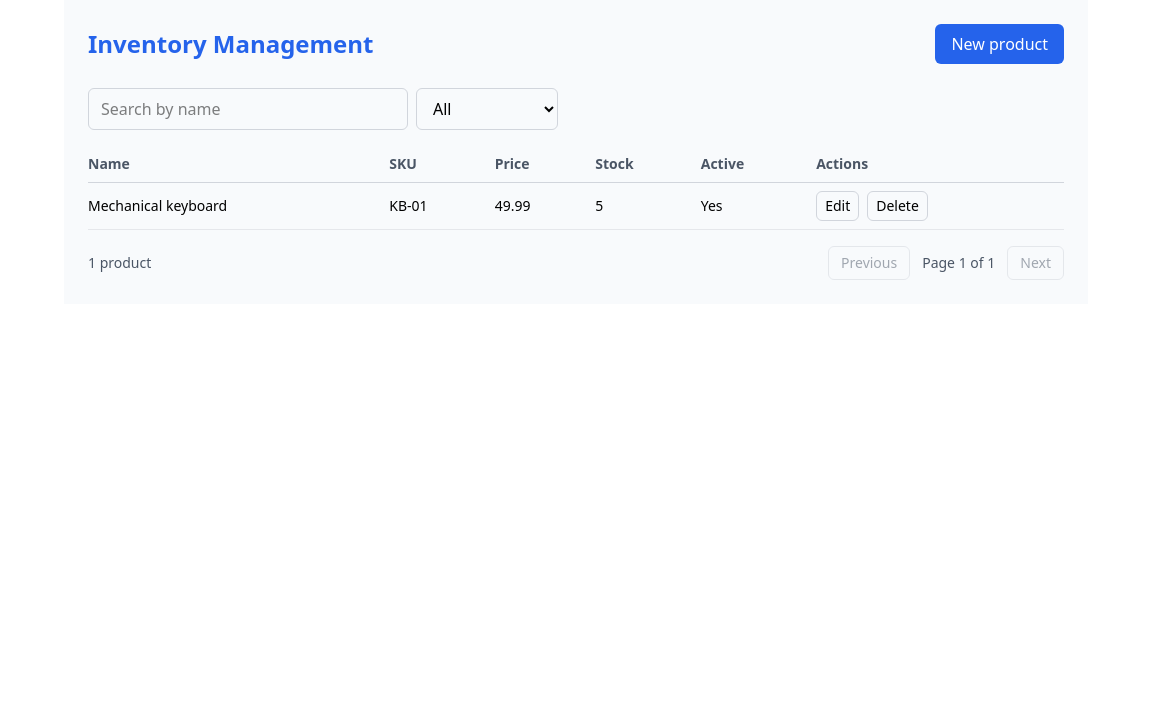
Test: delete flow › asks for confirmation naming the product; cancel sends nothing
Check: the text "Mechanical keyboard" is shown, box [88,182,389,230]
Click the button with aria-label "Delete Mechanical keyboard": (898,206) [867,191,928,221]
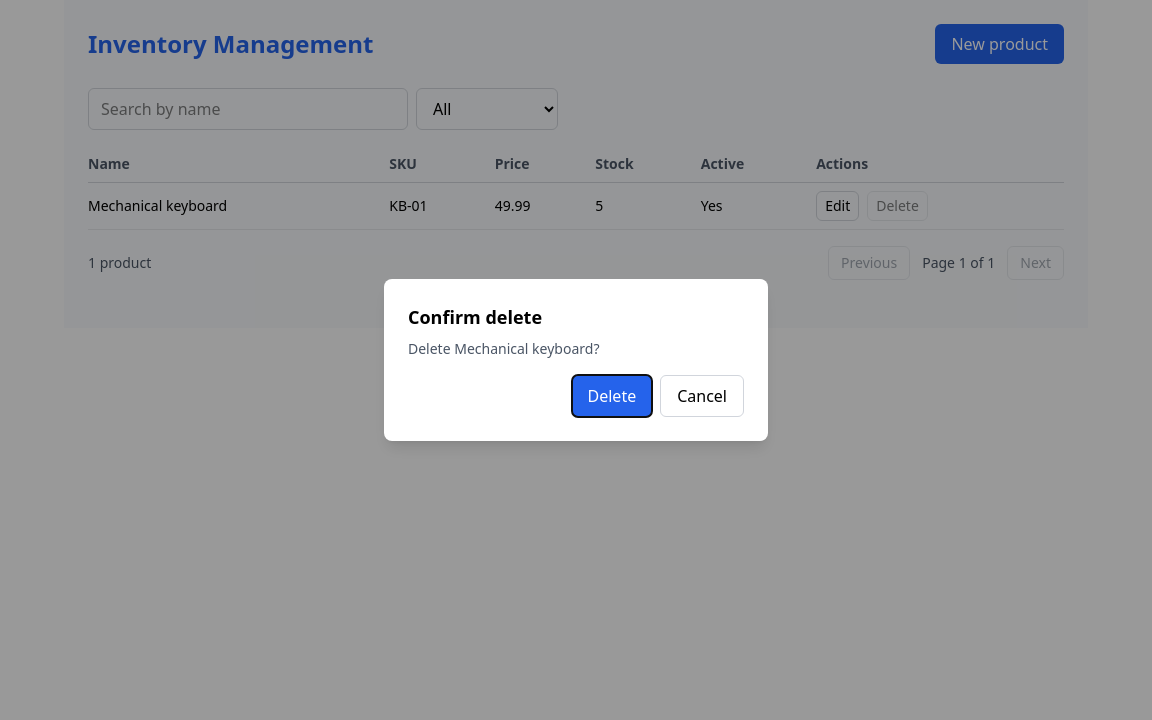
Check: the text "Delete Mechanical keyboard?" is shown, box [408,339,600,358]
Click the button "Cancel": (702,396) [660,375,744,417]
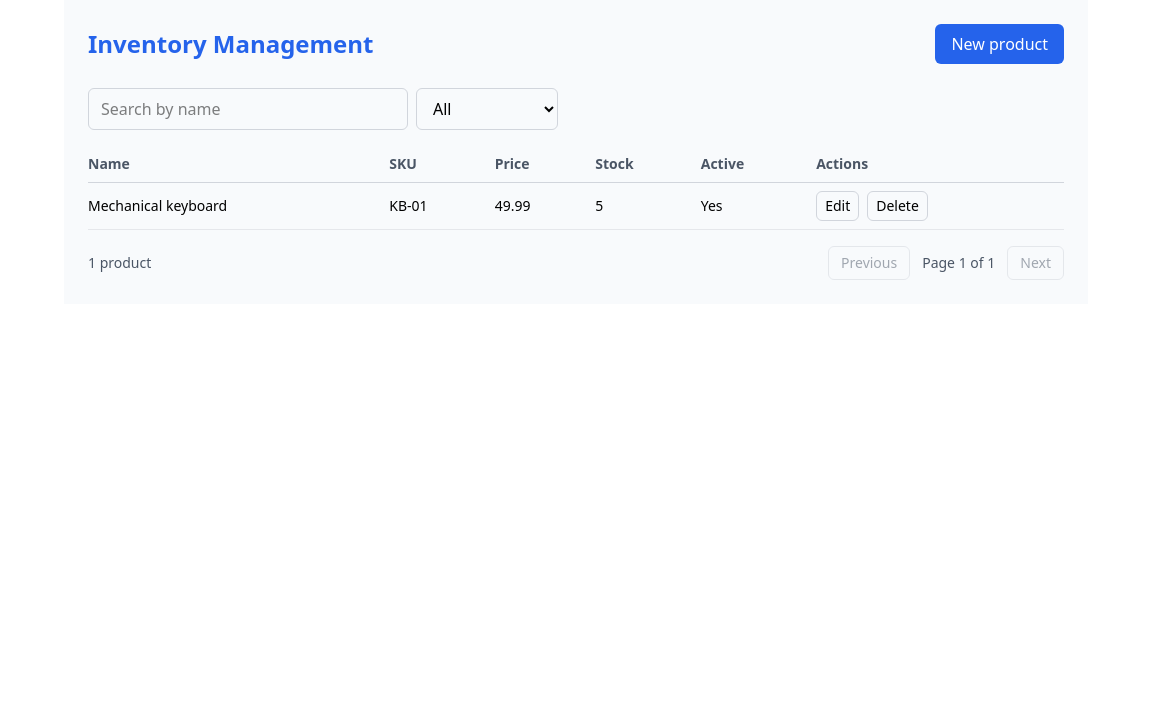
Check: the heading "Confirm delete" is gone
